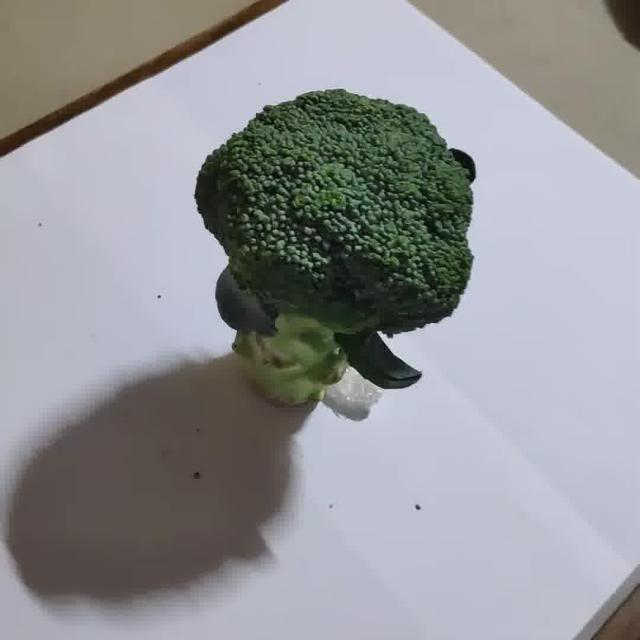Broccoli: (194, 89, 475, 419)
